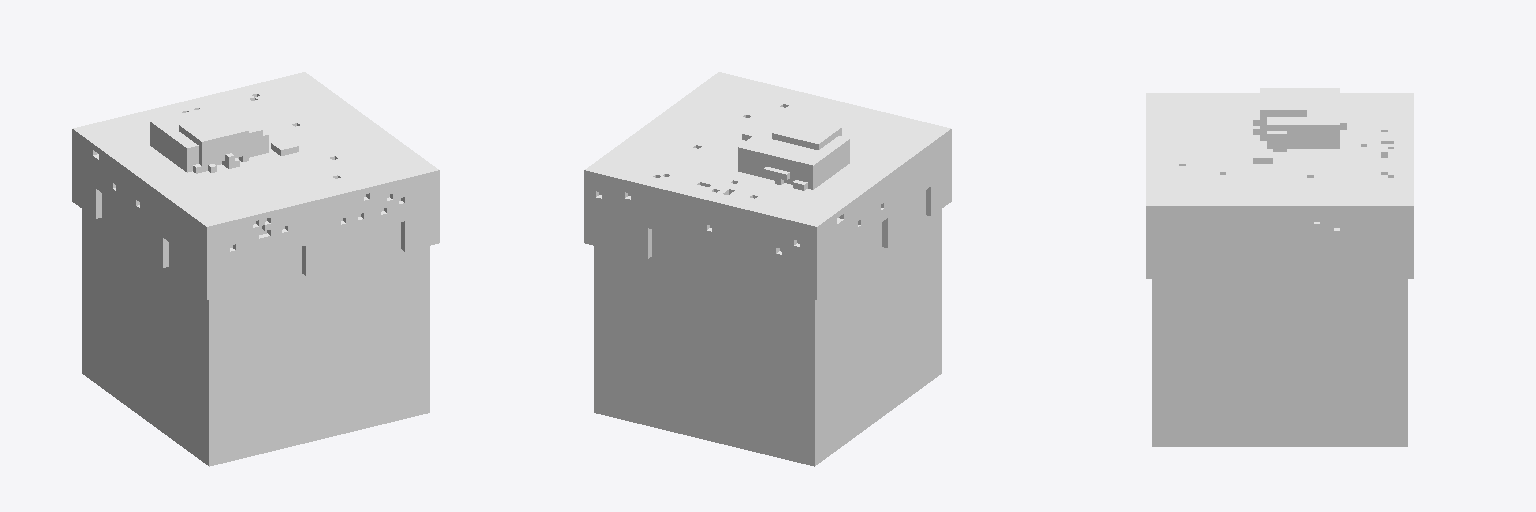
File: tile_base_top_4.obj
3 renders of one model, left to right at view 1: azimuth 30°, elevation 25°; view 2: azimuth 150°, elevation 25°; view 3: azimuth 270°, elevation 25°, orthographic.
Parts seen in each view (by area): view 1: tile_base_top_4; view 2: tile_base_top_4; view 3: tile_base_top_4.
Boxes of the visible parts, x1=… form: tile_base_top_4: x1=72, y1=72, x2=439, y2=466; tile_base_top_4: x1=584, y1=72, x2=951, y2=466; tile_base_top_4: x1=1146, y1=88, x2=1413, y2=446.
Size of the model in its own units: 40 by 45 by 40.